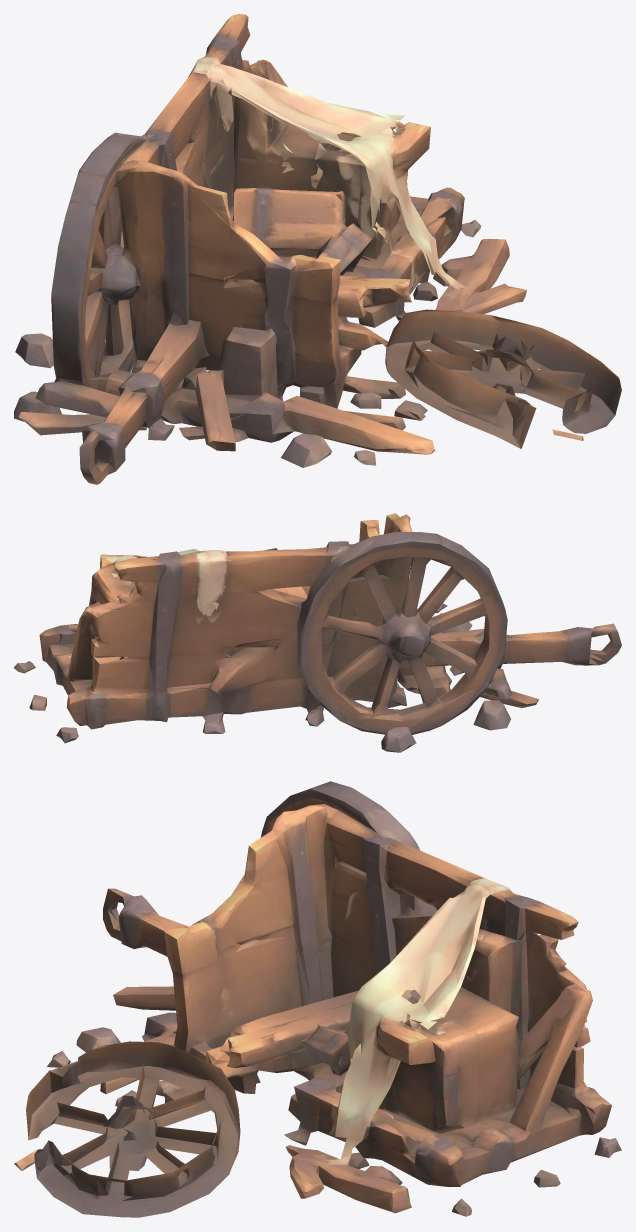
The model's file is wagon_wreck.glb.
3 renders of one model, top to bottom at view 1: azimuth 30°, elevation 25°; view 2: azimuth 150°, elevation 25°; view 3: azimuth 270°, elevation 25°, orthographic. The views are drawn at different scales.
Parts seen in each view (by area): view 1: body; view 2: body; view 3: body.
Part boxes in pixels (bbox=[...]): body: bbox=[14, 14, 621, 484]; body: bbox=[14, 513, 621, 752]; body: bbox=[14, 781, 621, 1217].
Bounding box in the file's own units: 3.33 × 1.4 × 3.1.
1 material, 1 textured.
